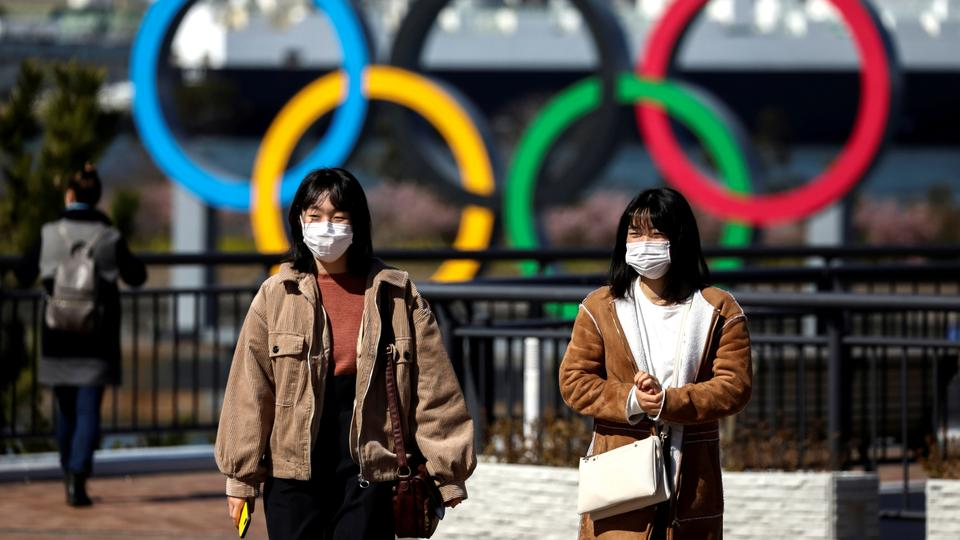with_mask: (625, 219, 666, 267), (309, 203, 347, 252)
